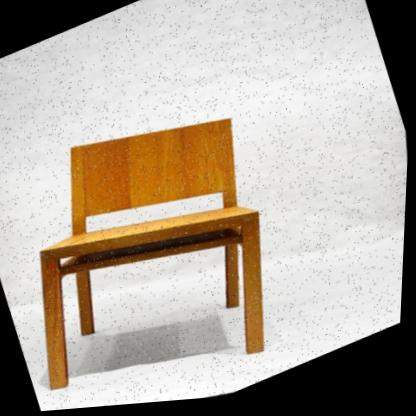Chair: (0, 32, 373, 416)
